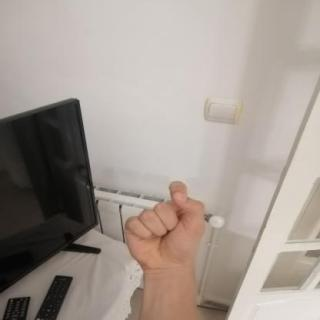FAA: (114, 175, 212, 276)
